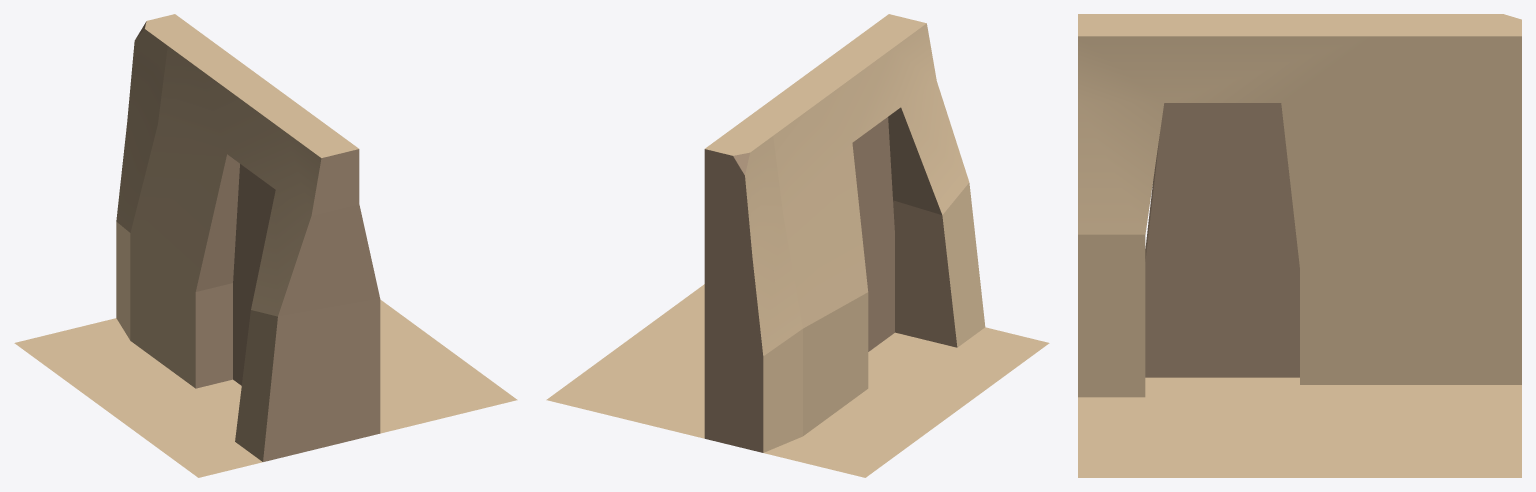
The model's file is FloorSlidingDoor.fbx.
The picture shows the model from 3 angles, left to right: view 1: azimuth 30°, elevation 25°; view 2: azimuth 150°, elevation 25°; view 3: azimuth 270°, elevation 25°; orthographic projection. The views are drawn at different scales.
Visible parts, largest first — view 1: FloorSlidingDoor, FloorSlidingDoorDoor; view 2: FloorSlidingDoor, FloorSlidingDoorDoor; view 3: FloorSlidingDoor, FloorSlidingDoorDoor.
Part boxes in pixels (x1,y1,x2,y2): FloorSlidingDoor: [14, 14, 517, 477]; FloorSlidingDoorDoor: [233, 164, 275, 385]; FloorSlidingDoor: [546, 14, 1049, 477]; FloorSlidingDoorDoor: [852, 117, 894, 351]; FloorSlidingDoor: [1078, 14, 1521, 477]; FloorSlidingDoorDoor: [1145, 103, 1299, 377].
Size of the model in its own units: 5 by 4.34 by 5.
